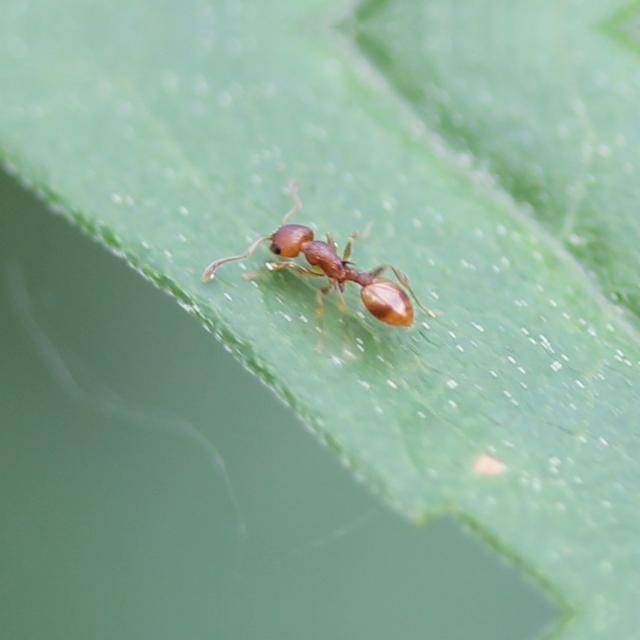Temnothorax: (225, 186, 441, 350)
